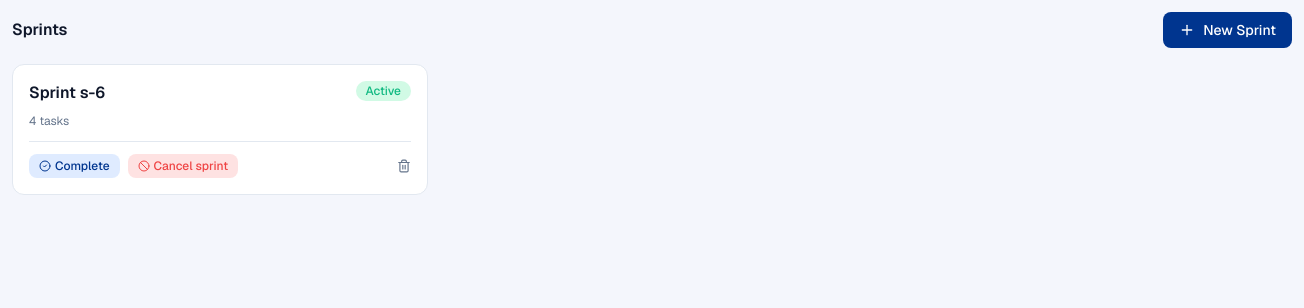
Scenario: cancelling is confirmed before it is sent › the Cancel button asks first and sends nothing on its own
Click the button with test id "sprint-cancel-s-6": (183, 166) [128,154,238,178]
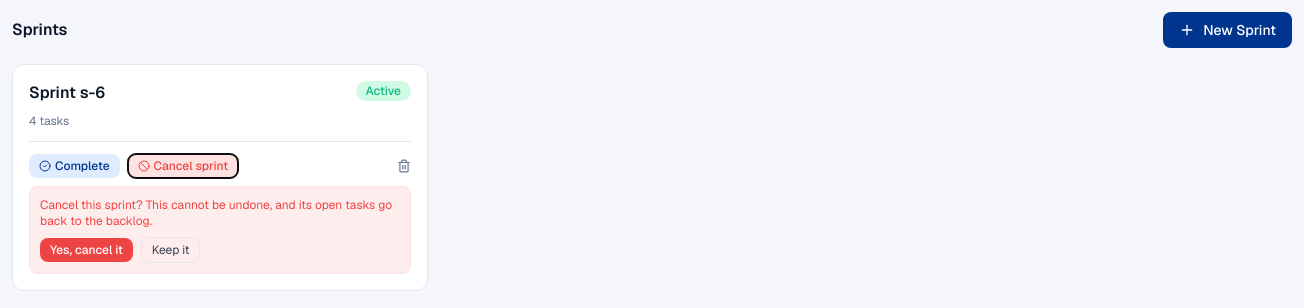
Expected: the button with test id "sprint-cancel-confirm-s-6" is shown, [29,186,411,274]
